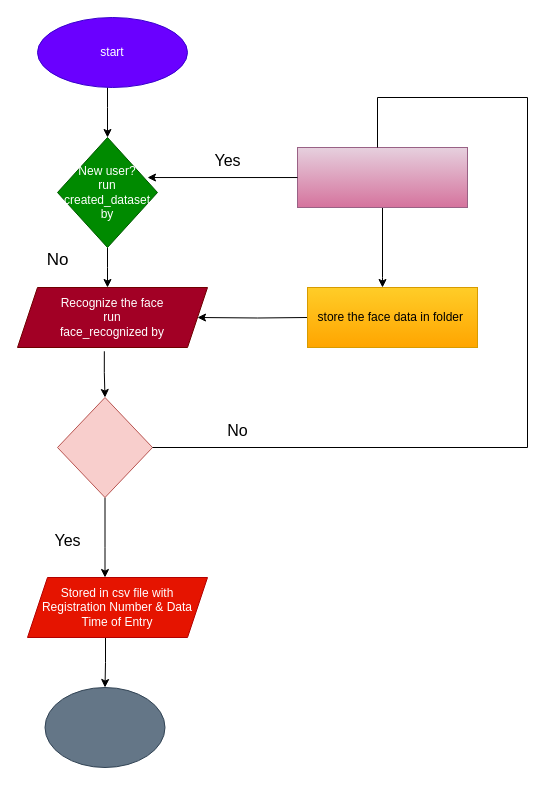
The diagram is 546 pixels wide and 785 high, and some of its shapes have lost their labels. The shapes that lost their labels are listed below. From the top down, each one's box as (x1, y1, x2, y2) in pixels, then its label:
(296, 146, 468, 208): Give your photograph
(56, 396, 152, 498): Face Recognized
(44, 686, 165, 768): End
